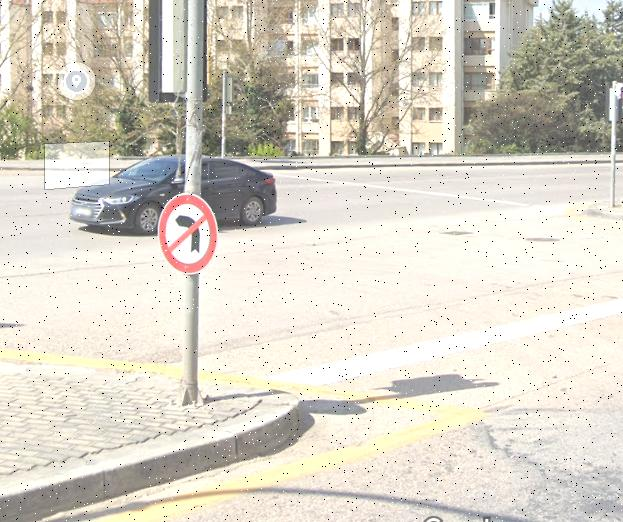leftturnsareforbidden: (158, 194, 220, 272)
